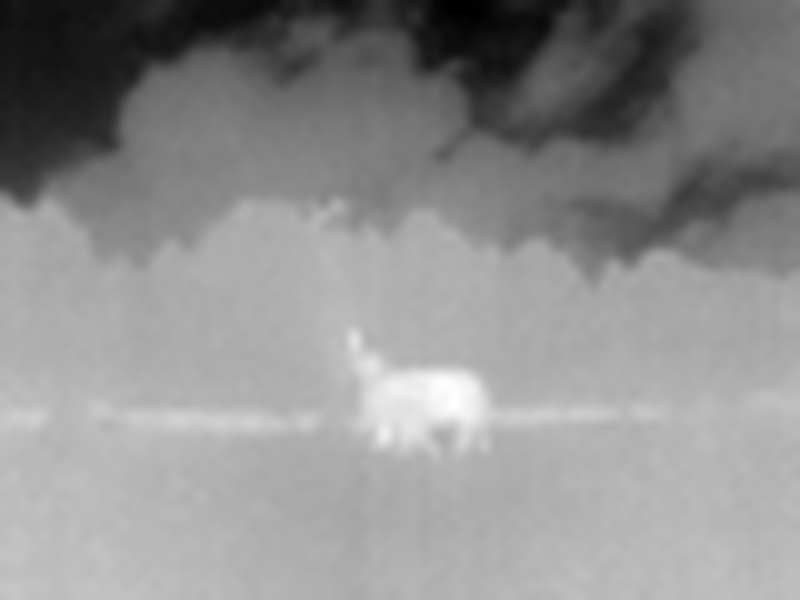elephant: (352, 345, 504, 455)
